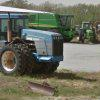Tractor: (4, 4, 74, 90)
